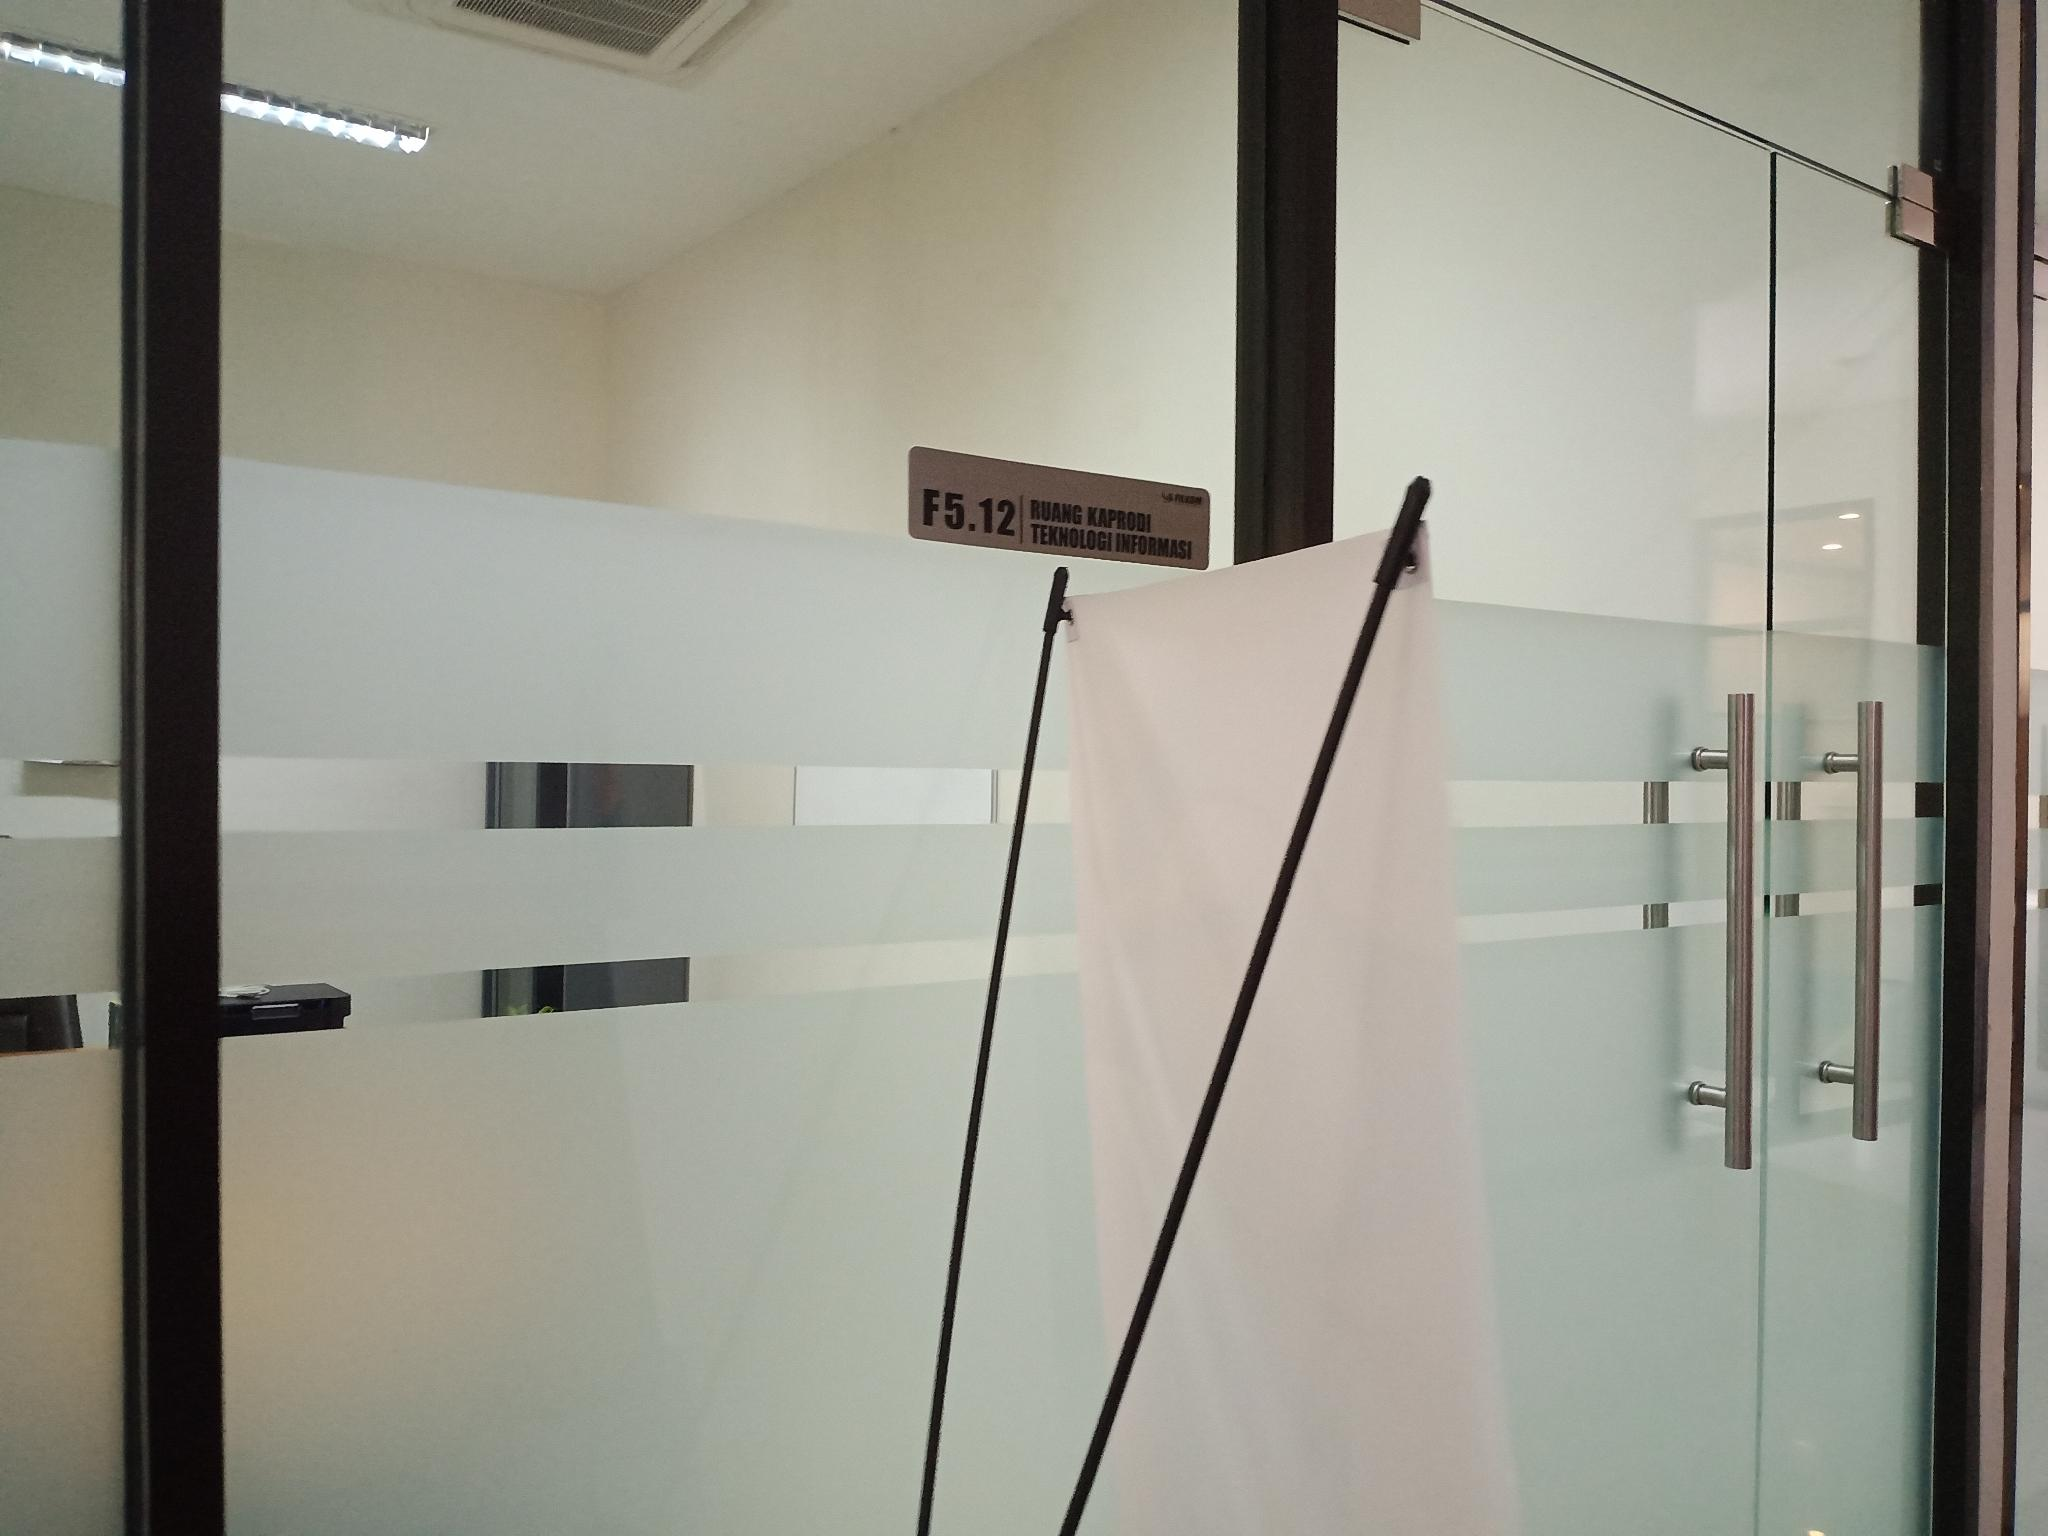plate: (906, 447, 1211, 573)
